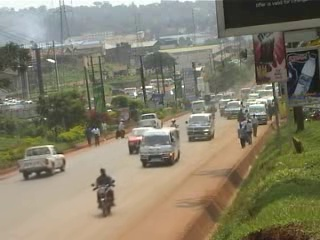Motorcycle: (85, 178, 118, 217)
